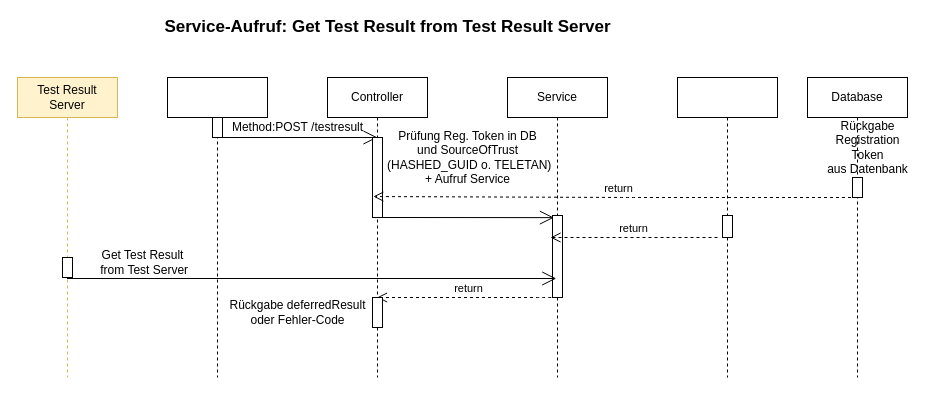
Some shapes in this 935 by 395 pixel diagram are drawn without their labels. The shapes that lost their labels are listed below. From the top down, each one's box as (x1, y1, x2, y2) in pixels, then its label:
(166, 76, 268, 378): API Endpoint
(676, 76, 778, 378): Model
